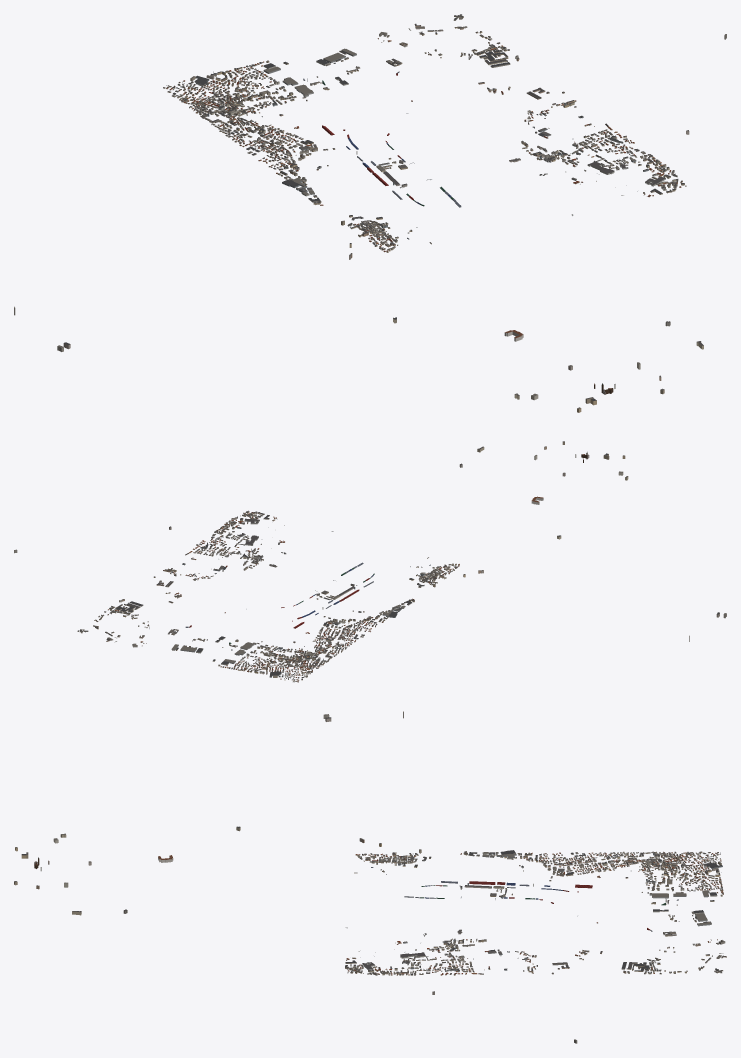
The model's file is scenery.glb.
3 views of the same model, one above another, from view 1: azimuth 30°, elevation 25°; view 2: azimuth 150°, elevation 25°; view 3: azimuth 270°, elevation 25° (orthographic). The views are drawn at different scales.
Visible parts, largest first — view 1: chunk_13_12, chunk_13_14, chunk_12_18; view 2: chunk_13_12; view 3: chunk_13_12.
Part boxes in pixels (x1,y1,x2,y2): chunk_13_12: [201, 79, 278, 111]; chunk_13_14: [257, 126, 317, 155]; chunk_12_18: [347, 220, 398, 247]; chunk_13_12: [253, 648, 309, 671]; chunk_13_12: [652, 861, 700, 884].
Size of the model in its own units: 6550 by 95.41 by 6039.
